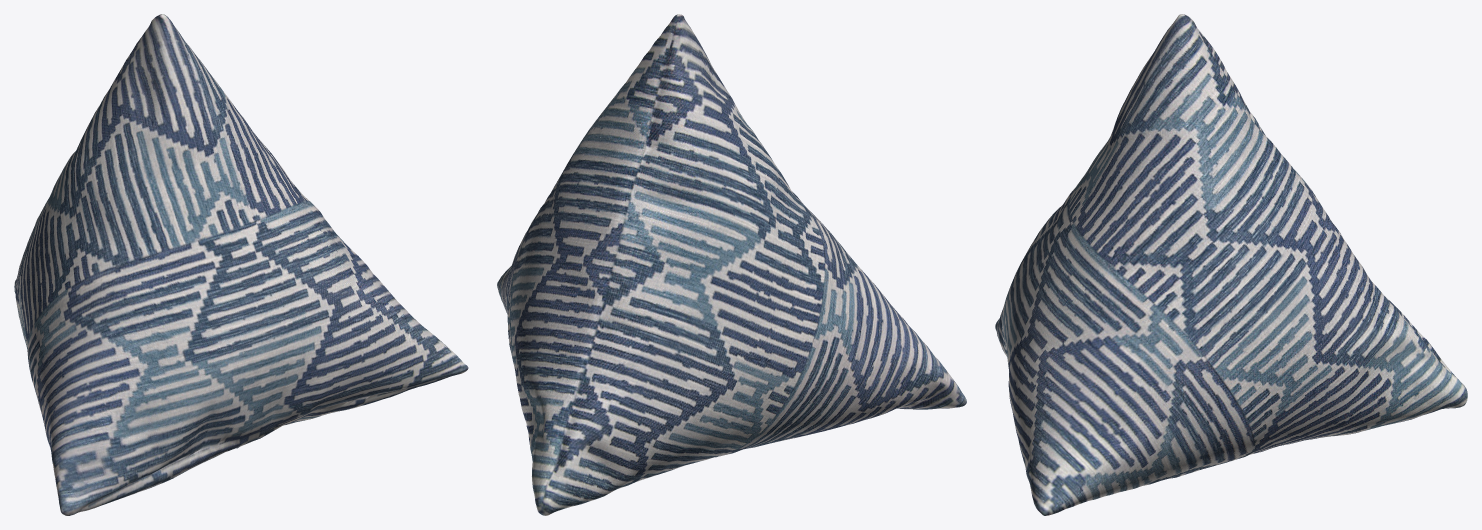
File: pillow1.glb
3 views of the same model, side by side, from view 1: azimuth 30°, elevation 25°; view 2: azimuth 150°, elevation 25°; view 3: azimuth 270°, elevation 25° (orthographic). The views are drawn at different scales.
Visible parts, largest first — view 1: Mesh; view 2: Mesh; view 3: Mesh.
Part boxes in pixels (bbox=[...]): Mesh: bbox=[14, 14, 468, 515]; Mesh: bbox=[497, 14, 966, 515]; Mesh: bbox=[995, 14, 1467, 515].
Size of the model in its own units: 38.99 by 35.68 by 35.9.
1 material, 1 textured.
